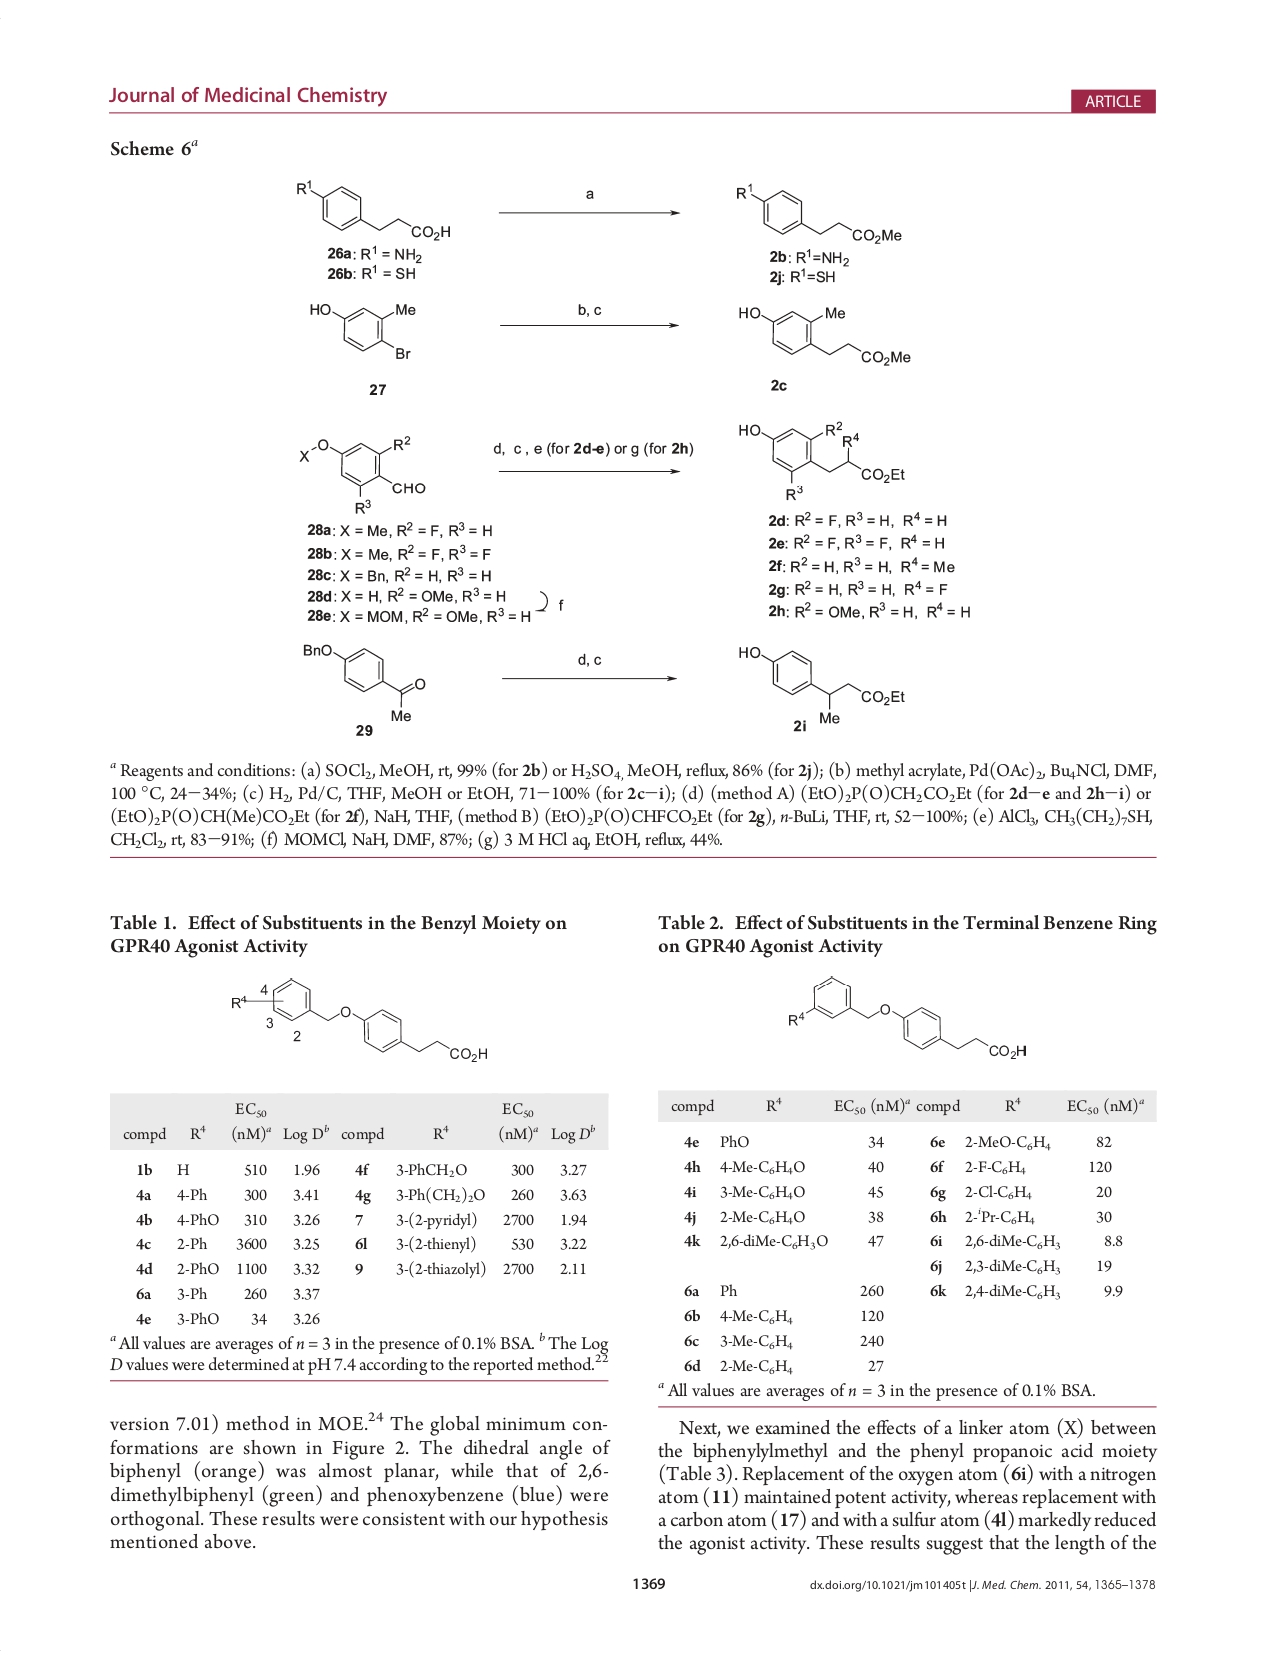exist_molecular: (782, 969, 1033, 1069), (227, 975, 491, 1065), (735, 416, 910, 505), (731, 641, 910, 726), (731, 297, 922, 370), (729, 180, 906, 246), (290, 176, 455, 246), (293, 434, 431, 517), (297, 637, 427, 723), (305, 294, 424, 360)
